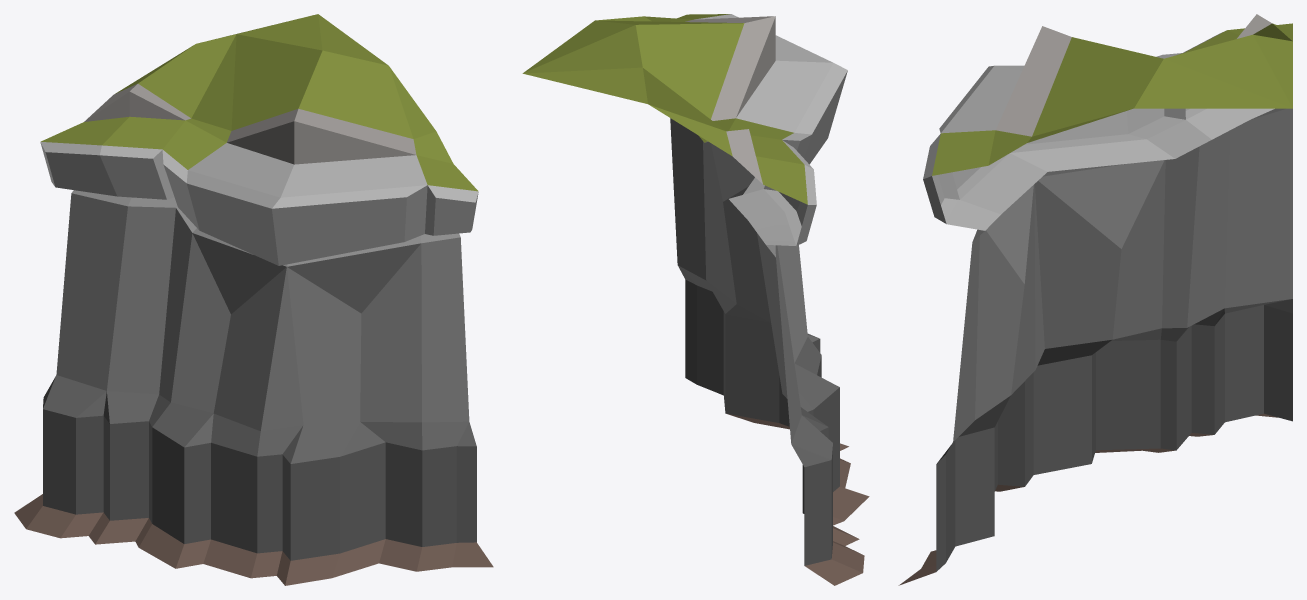
File: Clifftile Convex copy.fbx
3 renders of one model, left to right at view 1: azimuth 30°, elevation 25°; view 2: azimuth 150°, elevation 25°; view 3: azimuth 270°, elevation 25°, orthographic. The views are drawn at different scales.
Parts seen in each view (by area): view 1: Clifftile_Convex_copy; view 2: Clifftile_Convex_copy; view 3: Clifftile_Convex_copy.
Part boxes in pixels (x1=…): Clifftile_Convex_copy: x1=14, y1=14, x2=493, y2=585; Clifftile_Convex_copy: x1=522, y1=14, x2=869, y2=585; Clifftile_Convex_copy: x1=898, y1=14, x2=1292, y2=585.
Size of the model in its own units: 1101 by 1494 by 1073.
Materials: 1 (1 with a texture image).
